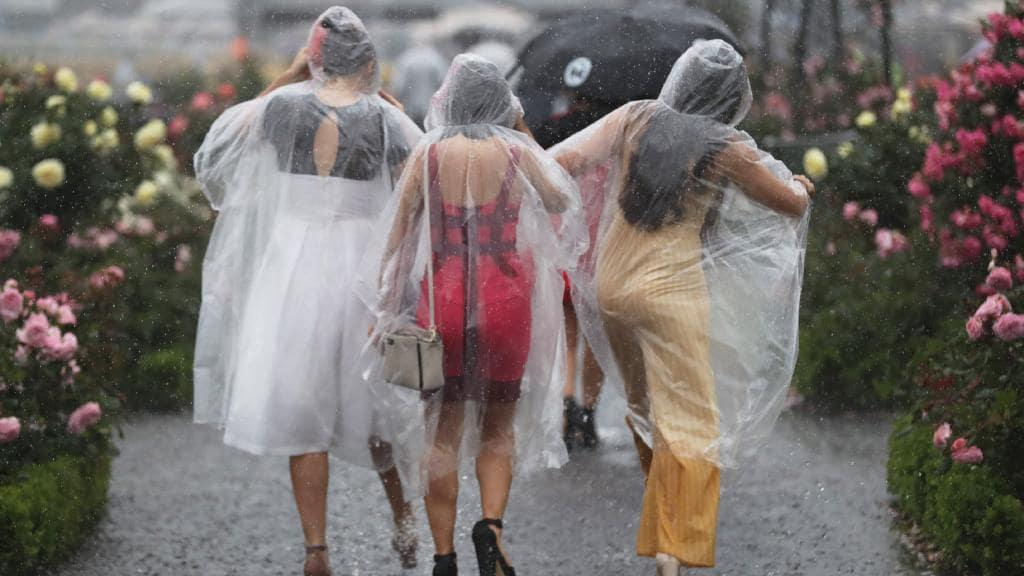Person: (575, 38, 815, 576), (194, 6, 415, 576), (371, 55, 572, 576)
